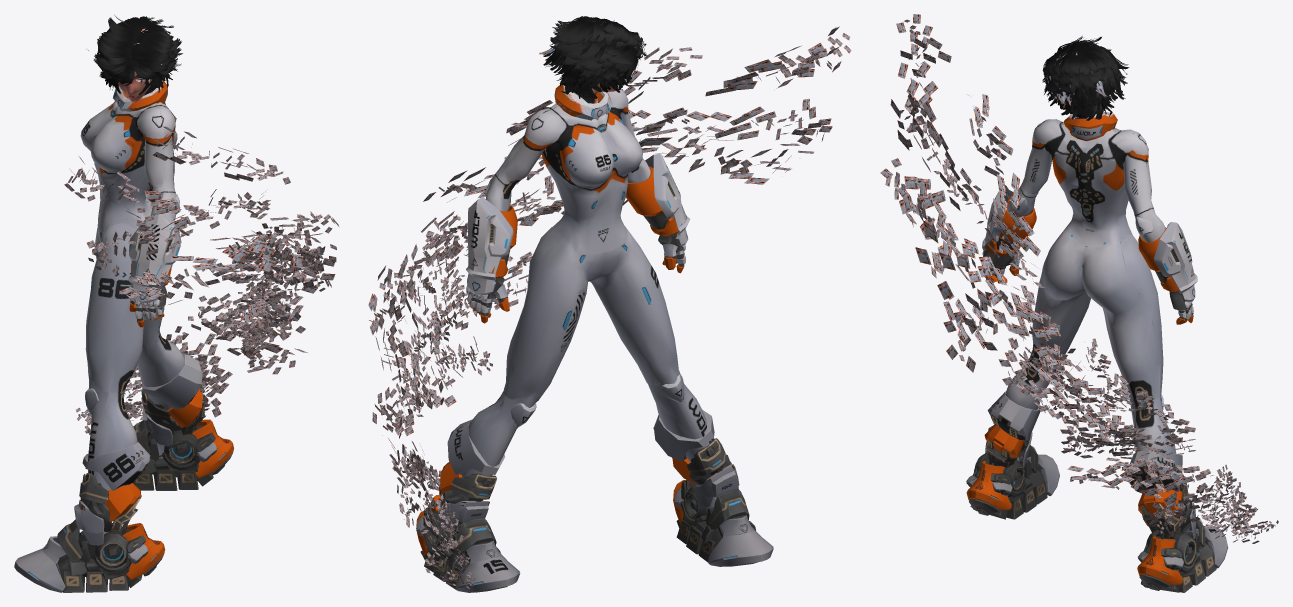
File: SUP_Stylized_Female_Futuristic_Pilot___Ferra.glb
3 renders of one model, left to right at view 1: azimuth 30°, elevation 25°; view 2: azimuth 150°, elevation 25°; view 3: azimuth 270°, elevation 25°, orthographic. The views are drawn at different scales.
Parts seen in each view (by area): view 1: SUP_Stylized_Female_Futuristic_Pilot___Ferra.001; view 2: SUP_Stylized_Female_Futuristic_Pilot___Ferra.001; view 3: SUP_Stylized_Female_Futuristic_Pilot___Ferra.001.
Boxes of the visible parts, bbox=[...] form: SUP_Stylized_Female_Futuristic_Pilot___Ferra.001: bbox=[14, 15, 339, 592]; SUP_Stylized_Female_Futuristic_Pilot___Ferra.001: bbox=[368, 16, 851, 592]; SUP_Stylized_Female_Futuristic_Pilot___Ferra.001: bbox=[880, 14, 1278, 592].
Bounding box in the file's own units: 1959 × 2678 × 1935.
Materials: 9 (9 with a texture image).
